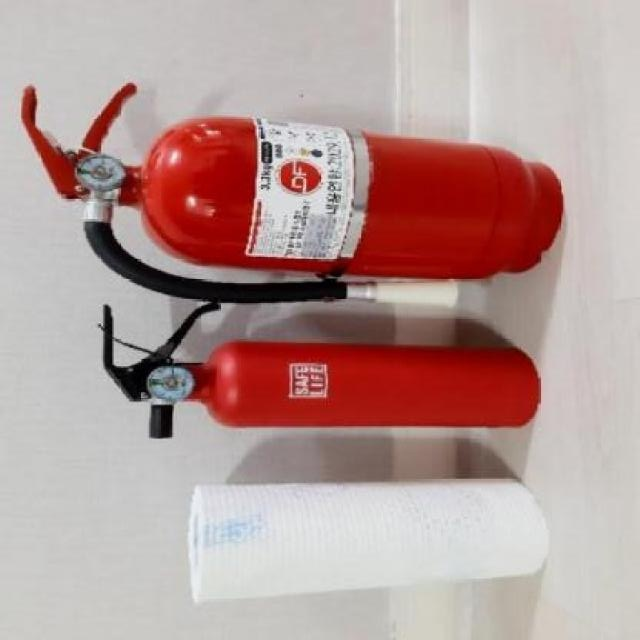fire extinguisher: (19, 81, 564, 307), (103, 302, 540, 440)
